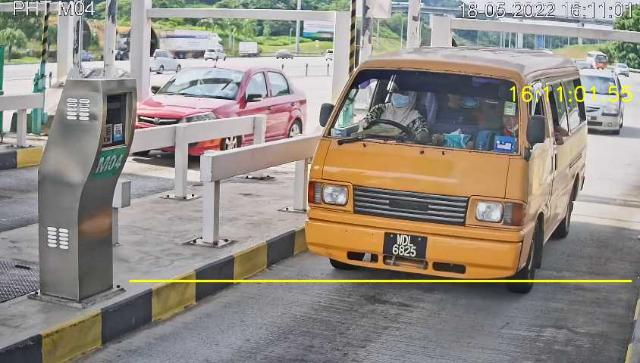License_Plate: (383, 231, 430, 263)
van: (306, 49, 588, 295)
